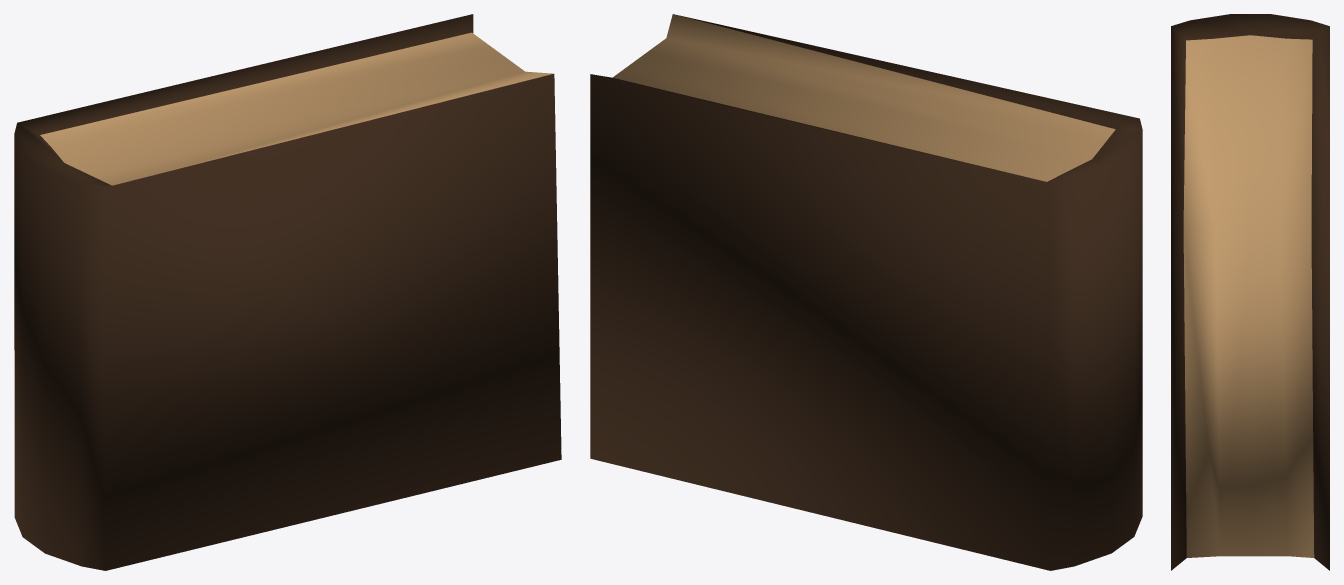
Rendered from book002.fbx.
The picture shows the model from 3 angles, left to right: view 1: azimuth 30°, elevation 25°; view 2: azimuth 150°, elevation 25°; view 3: azimuth 270°, elevation 25°; orthographic projection. The views are drawn at different scales.
Visible parts, largest first — view 1: Book Variation 002; view 2: Book Variation 002; view 3: Book Variation 002.
Part boxes in pixels (<box>): Book Variation 002: <box>14,14,561,570</box>; Book Variation 002: <box>590,14,1142,570</box>; Book Variation 002: <box>1171,14,1329,570</box>.
Bounding box in the file's own units: 0.3788 × 0.287 × 0.1198.
